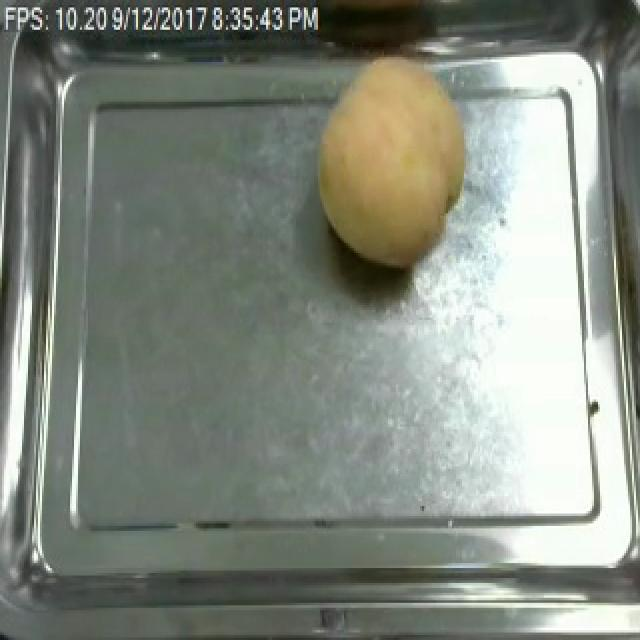Fruit: (306, 45, 478, 275)
